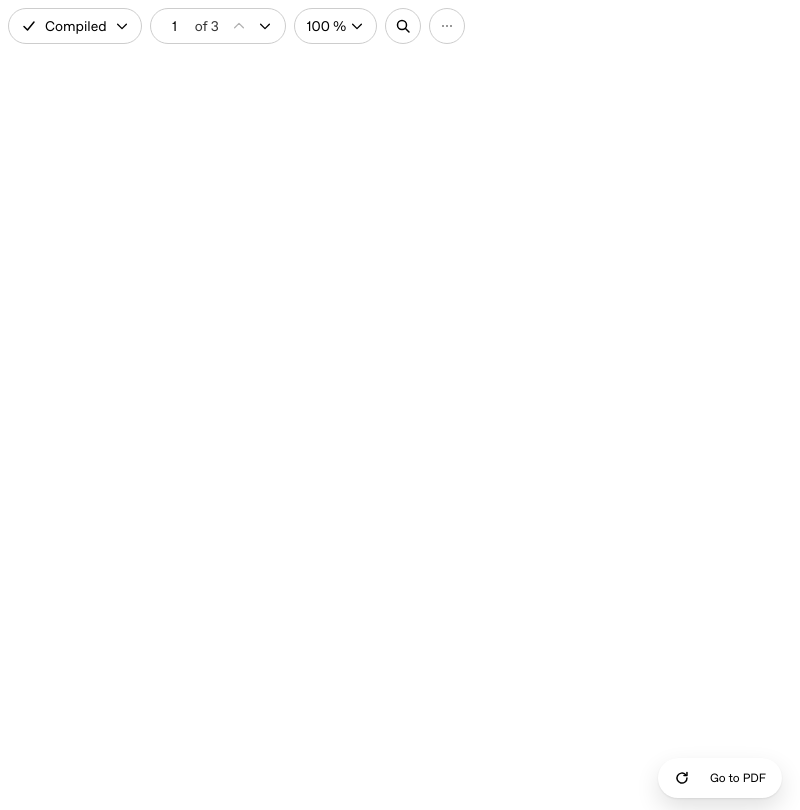
Test: PdfChrome › lists the zoom values from §8.1
The image size is (800, 810).
Click the button with test id "pdf-zoom" at (336, 26), box x1=294 y1=8 x2=377 y2=44
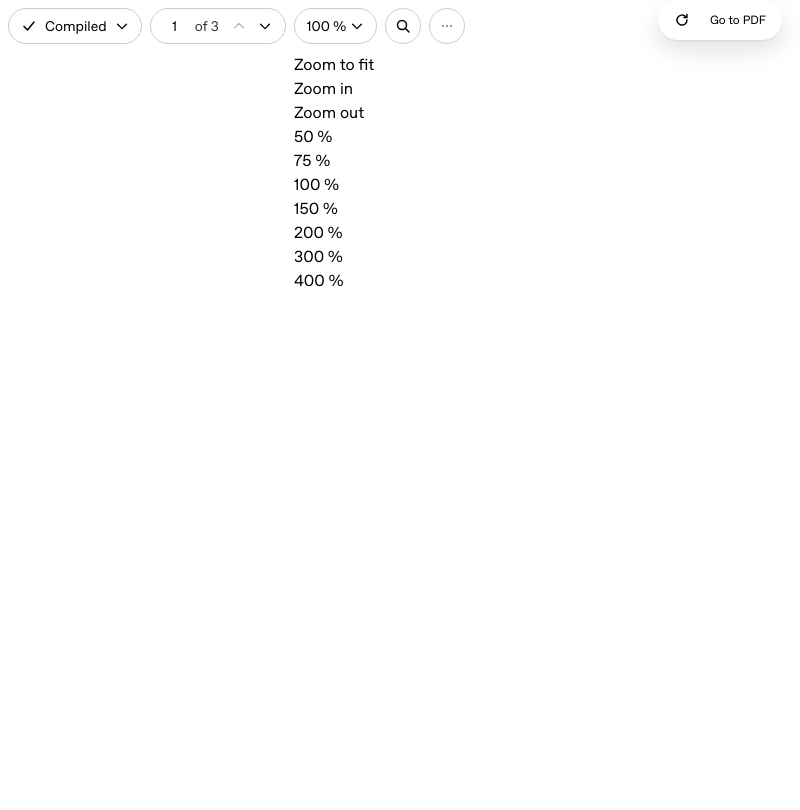
Expected: the menu item "Zoom to fit" is shown, x1=294 y1=53 x2=374 y2=77
Expected: the menu item "50 %" is shown, x1=294 y1=127 x2=332 y2=146
Expected: the menu item "400 %" is shown, x1=294 y1=271 x2=343 y2=290
